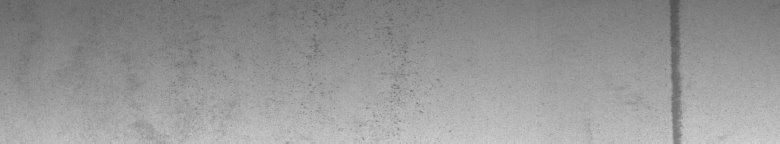hd: (661, 4, 687, 136)
